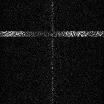wifi: (1, 30, 104, 36)
